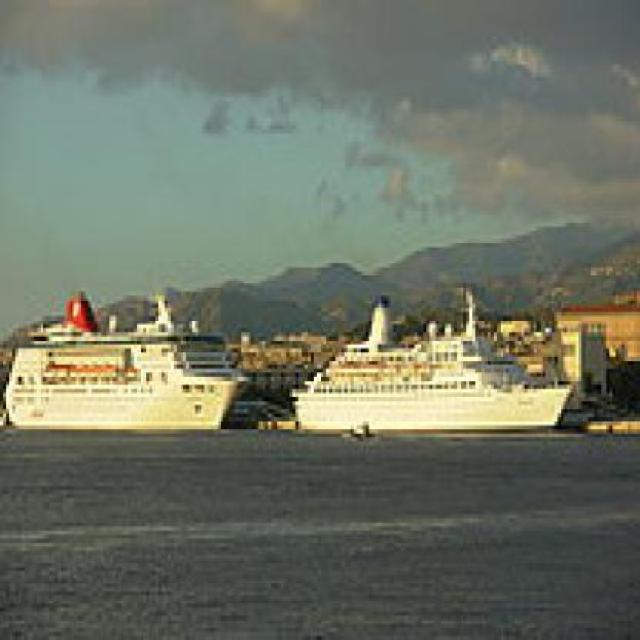cruise: (288, 284, 583, 455), (4, 289, 267, 447)
